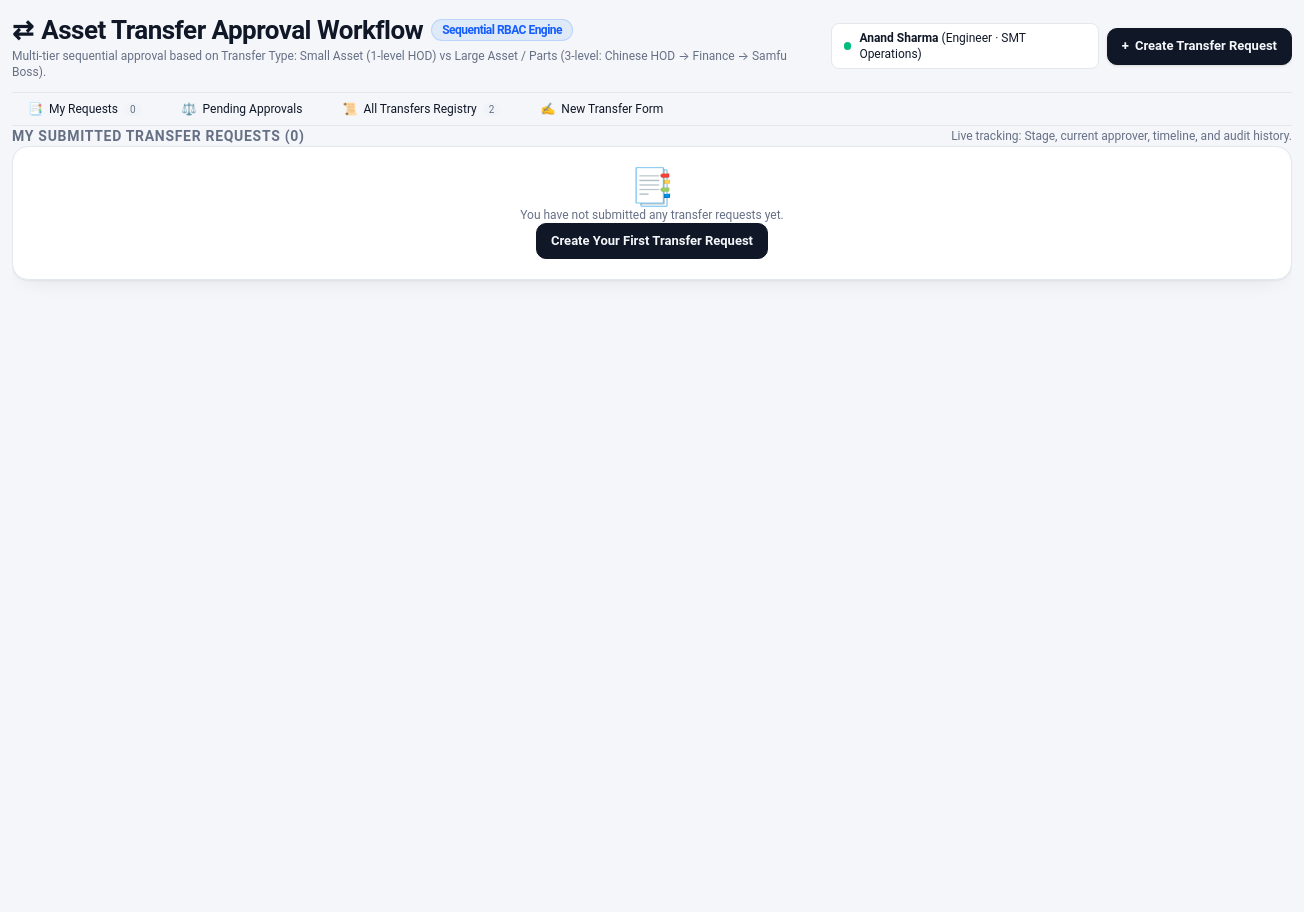
it: Multi-User Role Asset Transfer Simulation › Flow 1: Small Asset (<₹50k) 1-Level Approval (Requester -> HOD Approval -> Ledger Updated)
Later steps or results of the test are not shown.
Click the button "✍️ New Transfer Form": [602, 109] box [524,93,679,125]
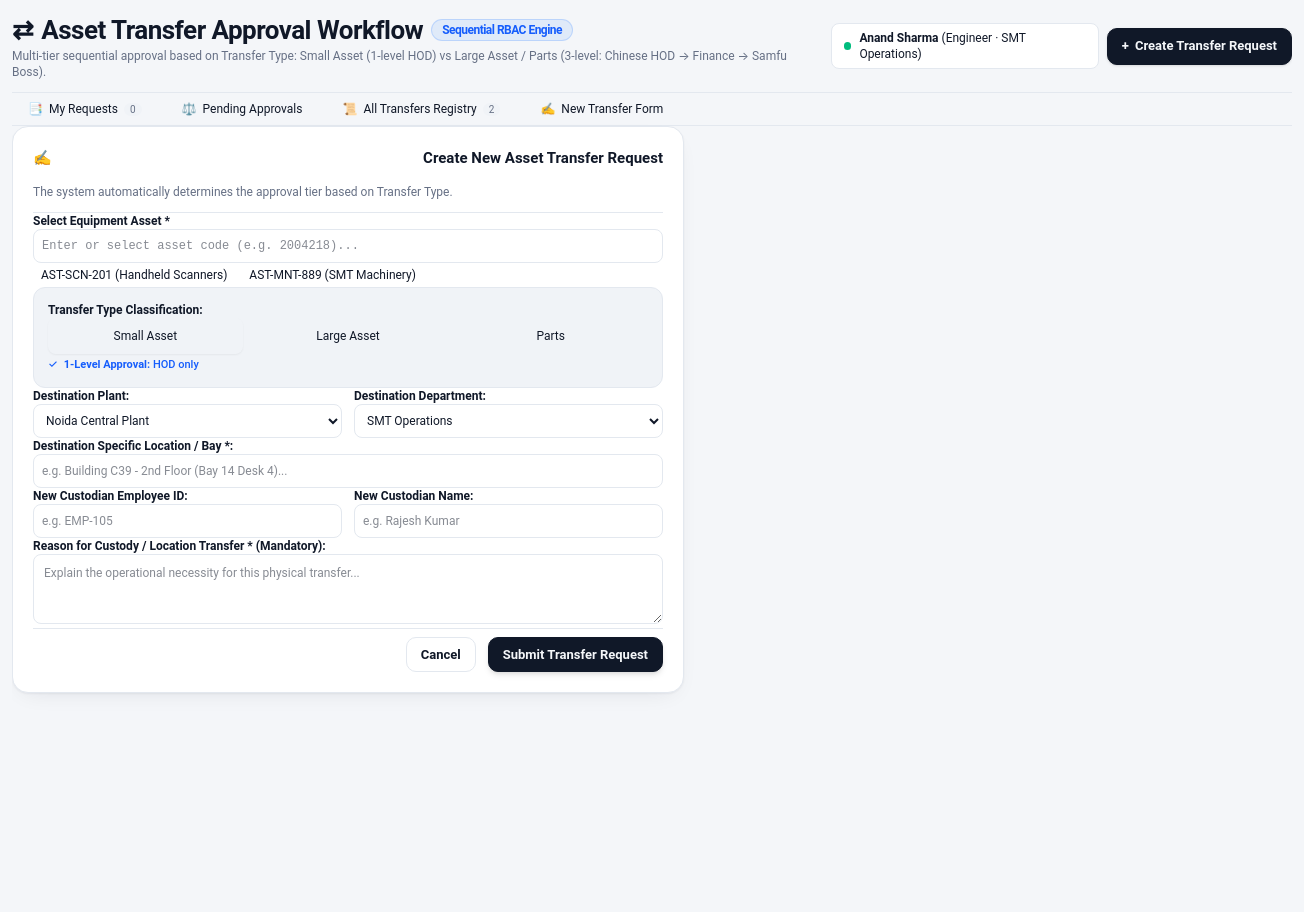
Click the button "AST-SCN-201 (Handheld Scanners)": [134, 275] box [33,263,235,287]
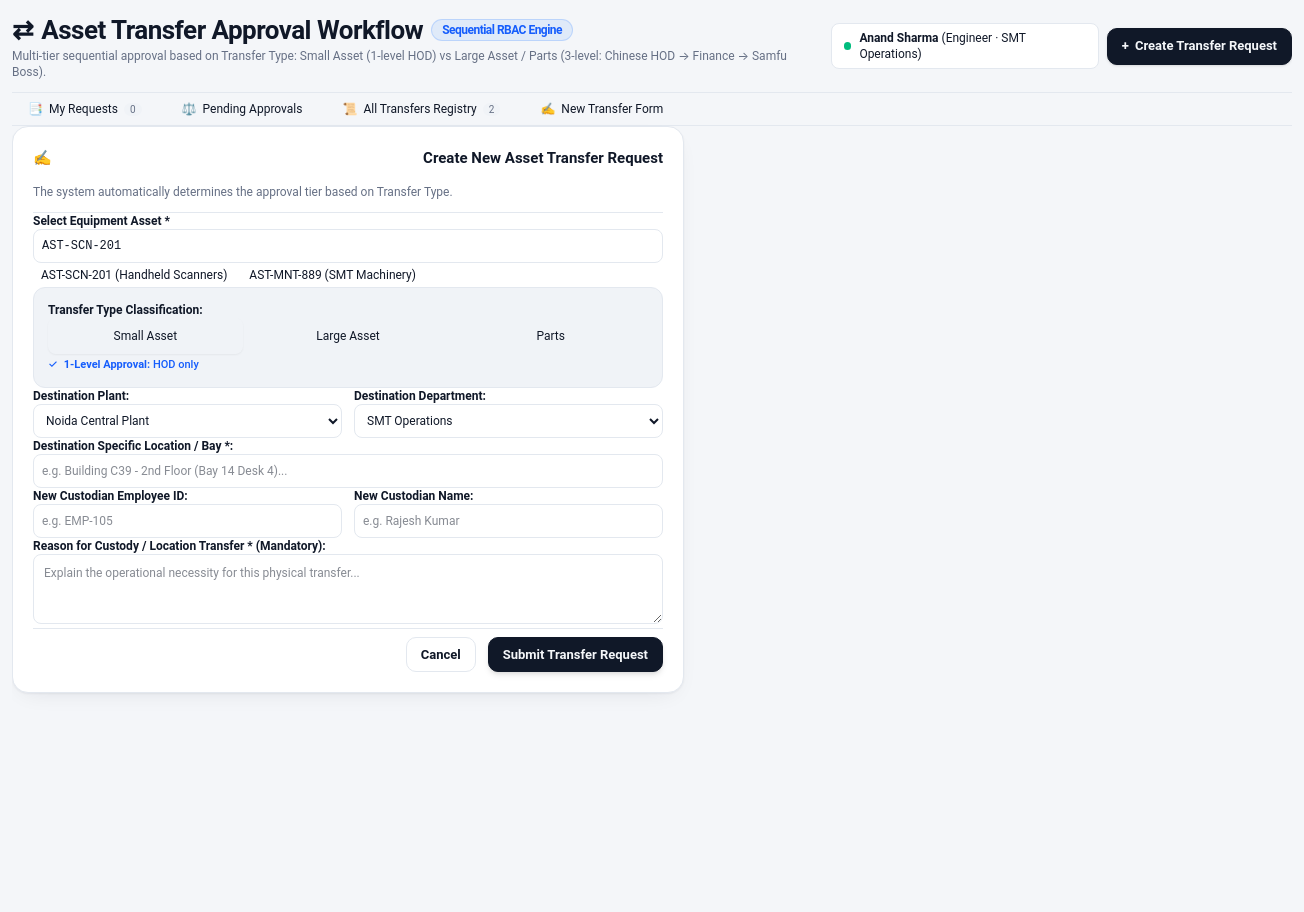
Expected: the text "1-Level Approval:" is shown, [64,358,150,371]
Expected: the text "1-Level Approval: HOD only" is shown, [64,358,199,373]
In the field with placeholder "e.g. Building C39 - 2nd Floor (Bay 14 Desk 4)...": [348, 470] box [33,454,663,488], type "C39-3F QC Testing Lab"
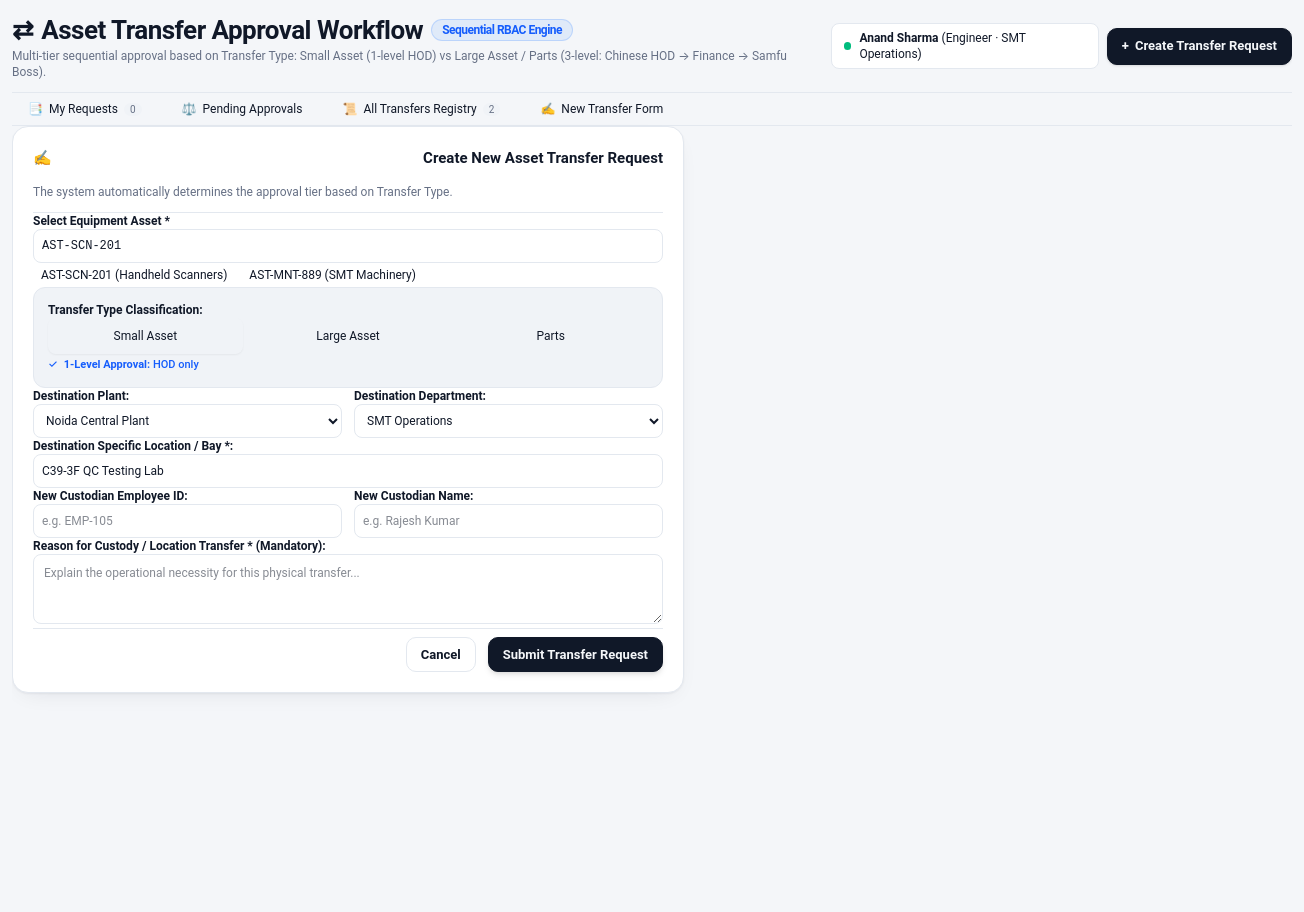
Replace the text in the text box with placeholder "Explain the operational necessity" with "Relocating scanner for emergency QC batch verification.": [348, 588] box [33,554,663,624]
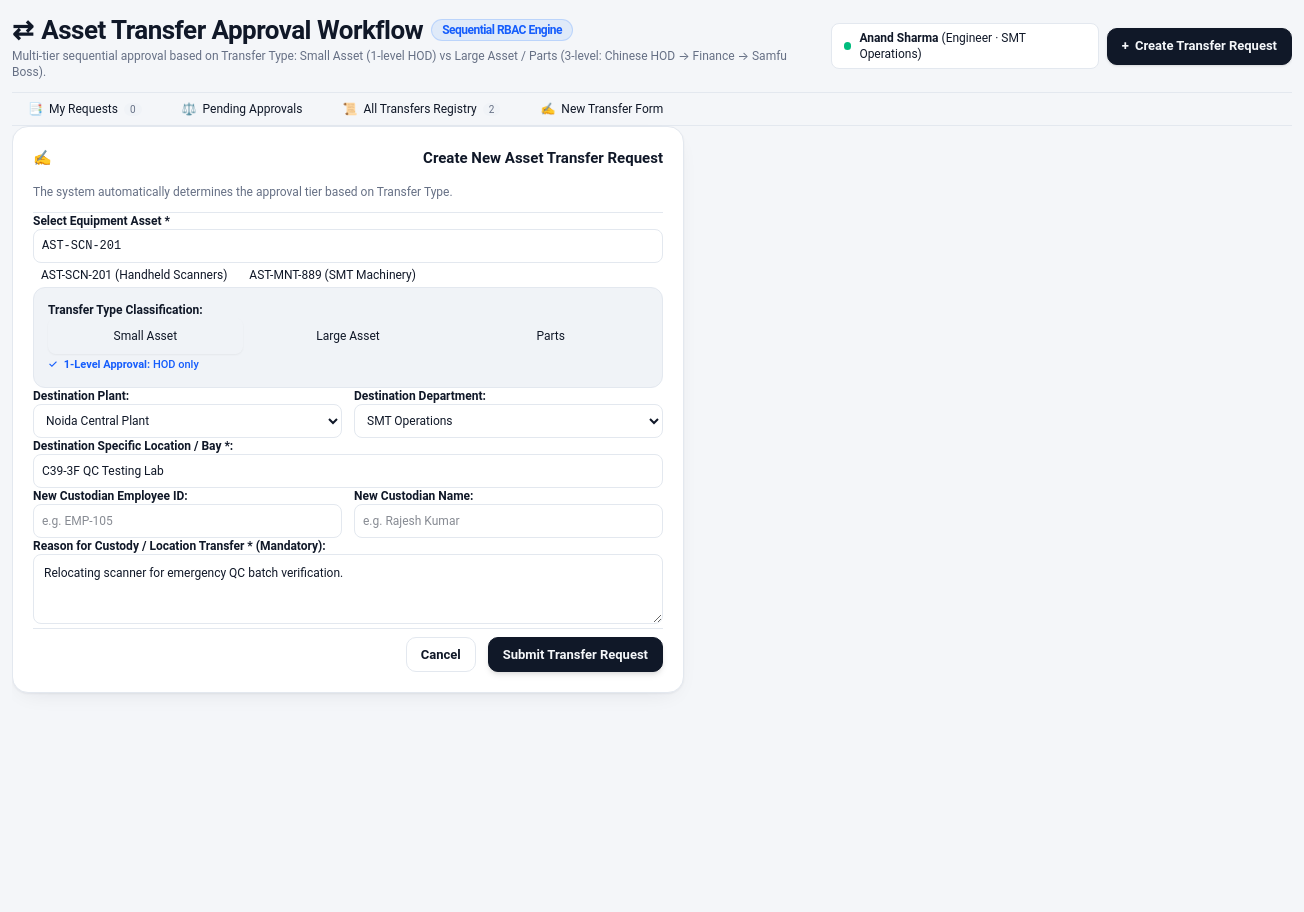
Click the button "Submit Transfer Request": [575, 654] box [488,636,663,672]
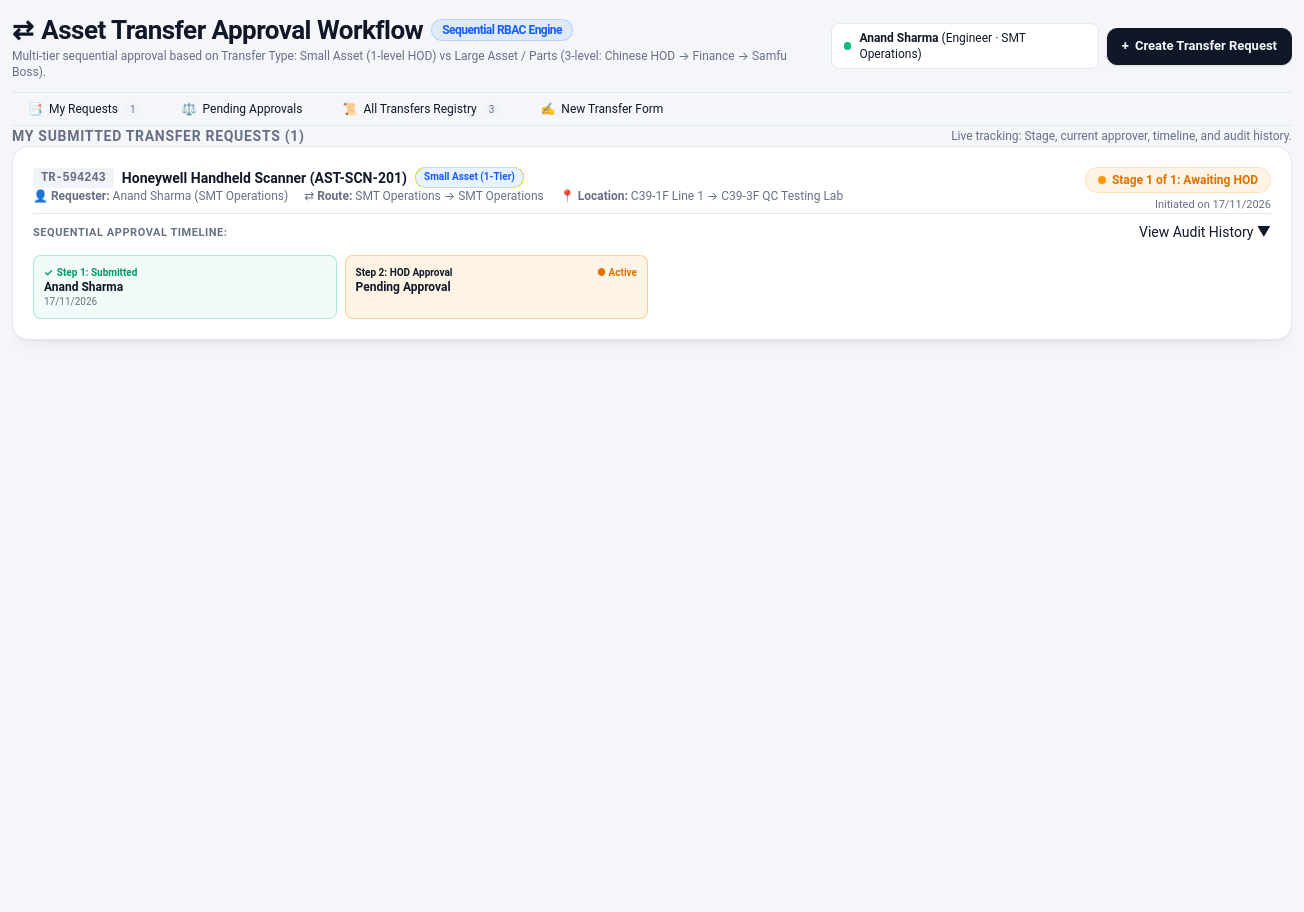
Expected: the text "Stage 1 of 1: Awaiting HOD" is shown, [1112,172,1258,188]
